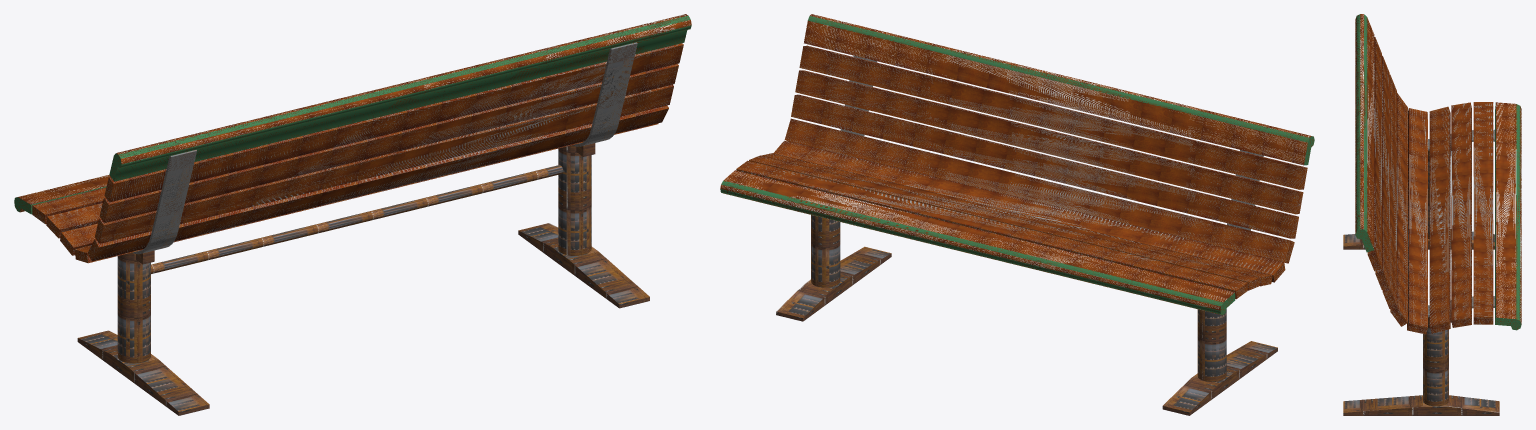
3 views of the same model, side by side, from view 1: azimuth 30°, elevation 25°; view 2: azimuth 150°, elevation 25°; view 3: azimuth 270°, elevation 25° (orthographic). The views are drawn at different scales.
Visible parts, largest first — view 1: mesh1_mesh1-geometry, mesh10_mesh10-geometry, mesh14_mesh14-geometry, mesh13_mesh13-geometry, mesh15_mesh15-geometry, mesh18_mesh18-geometry, mesh11_mesh11-geometry, mesh9_mesh9-geometry, mesh3_mesh3-geometry, mesh6_mesh6-geometry, mesh19_mesh19-geometry, mesh17_mesh17-geometry (+3 smaller); view 2: mesh1_mesh1-geometry, mesh19_mesh19-geometry, mesh13_mesh13-geometry, mesh14_mesh14-geometry, mesh15_mesh15-geometry, mesh18_mesh18-geometry, mesh12_mesh12-geometry, mesh17_mesh17-geometry, mesh16_mesh16-geometry, mesh10_mesh10-geometry, mesh2_mesh2-geometry, mesh9_mesh9-geometry (+1 smaller); view 3: mesh19_mesh19-geometry, mesh2_mesh2-geometry, mesh17_mesh17-geometry, mesh16_mesh16-geometry, mesh1_mesh1-geometry, mesh12_mesh12-geometry, mesh11_mesh11-geometry, mesh18_mesh18-geometry, mesh10_mesh10-geometry, mesh15_mesh15-geometry, mesh13_mesh13-geometry, mesh14_mesh14-geometry (+1 smaller).
Part boxes in pixels (x1,y1,x2,y2): mesh1_mesh1-geometry: [109, 14, 691, 181]; mesh10_mesh10-geometry: [117, 145, 591, 363]; mesh14_mesh14-geometry: [104, 43, 683, 202]; mesh13_mesh13-geometry: [99, 64, 678, 222]; mesh15_mesh15-geometry: [95, 84, 673, 243]; mesh18_mesh18-geometry: [87, 105, 668, 261]; mesh11_mesh11-geometry: [518, 223, 649, 308]; mesh9_mesh9-geometry: [77, 330, 209, 415]; mesh3_mesh3-geometry: [572, 42, 637, 156]; mesh6_mesh6-geometry: [132, 150, 196, 264]; mesh19_mesh19-geometry: [14, 175, 110, 214]; mesh17_mesh17-geometry: [32, 187, 105, 224]; mesh1_mesh1-geometry: [804, 14, 1314, 165]; mesh19_mesh19-geometry: [720, 170, 1235, 315]; mesh13_mesh13-geometry: [795, 70, 1303, 214]; mesh14_mesh14-geometry: [799, 45, 1307, 189]; mesh15_mesh15-geometry: [791, 94, 1298, 238]; mesh18_mesh18-geometry: [784, 118, 1294, 263]; mesh12_mesh12-geometry: [773, 140, 1285, 282]; mesh17_mesh17-geometry: [736, 160, 1247, 299]; mesh16_mesh16-geometry: [749, 155, 1260, 290]; mesh10_mesh10-geometry: [811, 215, 1226, 381]; mesh2_mesh2-geometry: [761, 153, 1272, 286]; mesh9_mesh9-geometry: [1162, 341, 1277, 415]; mesh19_mesh19-geometry: [1495, 102, 1521, 330]; mesh2_mesh2-geometry: [1429, 106, 1450, 333]; mesh17_mesh17-geometry: [1473, 102, 1493, 324]; mesh16_mesh16-geometry: [1451, 102, 1471, 327]; mesh1_mesh1-geometry: [1355, 14, 1374, 252]; mesh12_mesh12-geometry: [1407, 108, 1427, 334]; mesh11_mesh11-geometry: [1343, 395, 1499, 415]; mesh18_mesh18-geometry: [1390, 93, 1407, 326]; mesh10_mesh10-geometry: [1423, 150, 1448, 406]; mesh15_mesh15-geometry: [1382, 74, 1396, 308]; mesh13_mesh13-geometry: [1375, 55, 1389, 289]; mesh14_mesh14-geometry: [1367, 37, 1381, 271].
Bounding box in the file's own units: 0.8703 × 0.387 × 0.3045.
